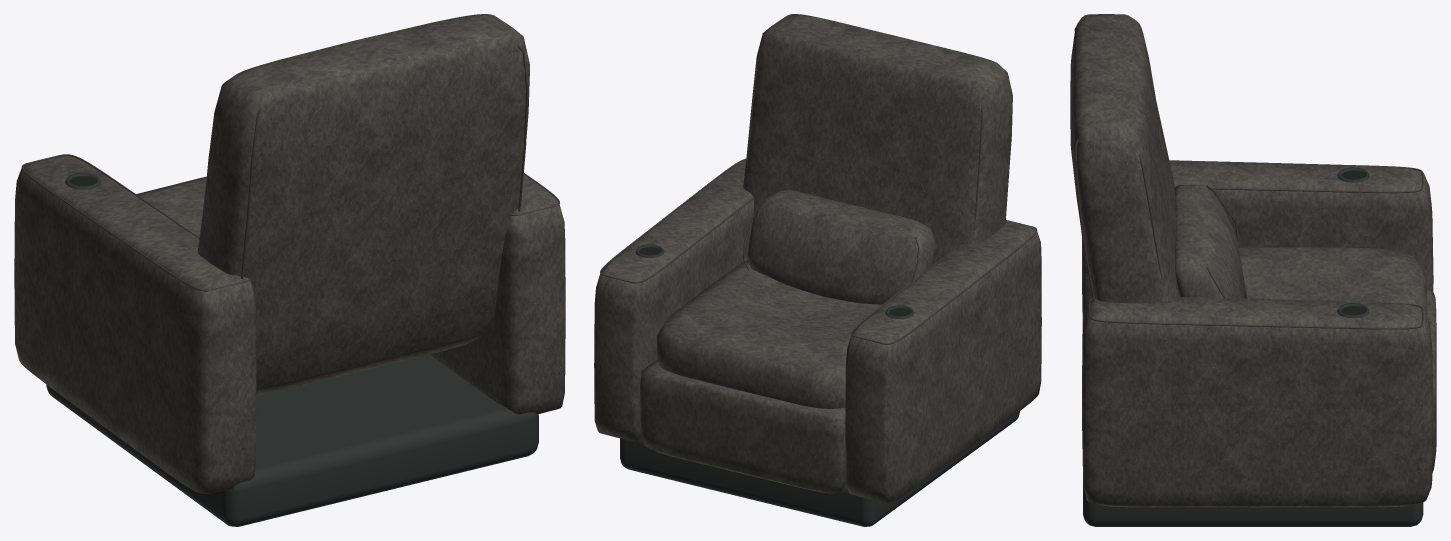
File: cinema-lounge-seat.glb
The picture shows the model from 3 angles, left to right: view 1: azimuth 30°, elevation 25°; view 2: azimuth 150°, elevation 25°; view 3: azimuth 270°, elevation 25°; orthographic projection. The views are drawn at different scales.
Parts seen in each view (by area): view 1: L01_CINEMA_RECLINER; view 2: L01_CINEMA_RECLINER; view 3: L01_CINEMA_RECLINER.
Boxes of the visible parts, left/top/right/bottom form: L01_CINEMA_RECLINER: left=14, top=14, right=565, bottom=526; L01_CINEMA_RECLINER: left=594, top=14, right=1041, bottom=526; L01_CINEMA_RECLINER: left=1070, top=14, right=1436, bottom=526.
Bounding box in the file's own units: 1.01 × 1.13 × 0.952.
4 materials, 1 textured.
